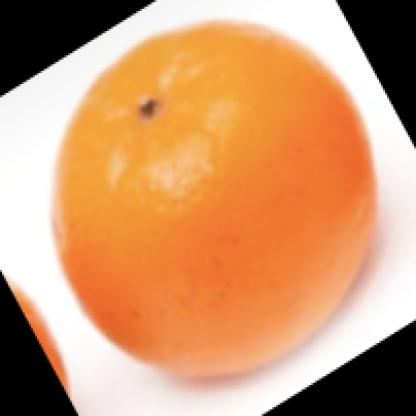fresh: (54, 18, 374, 379)
